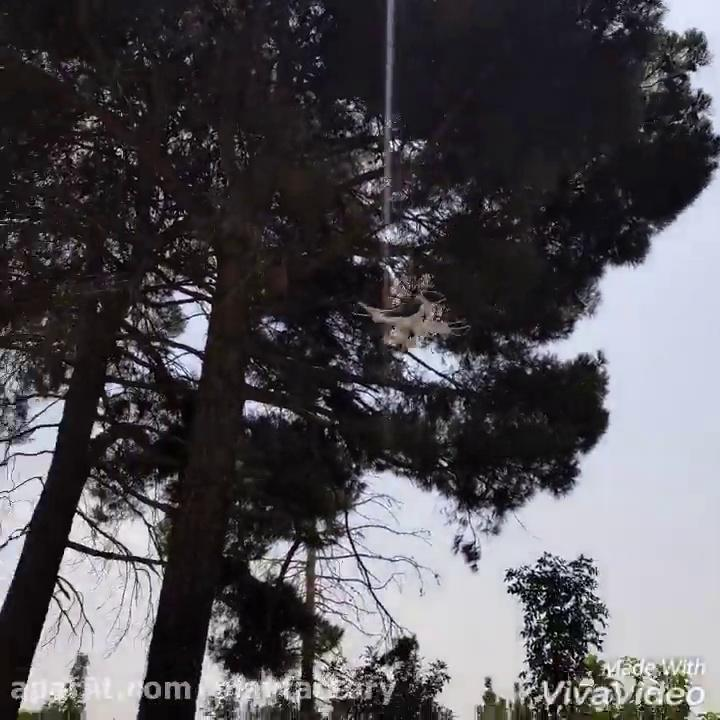drone: (363, 290, 467, 350)
